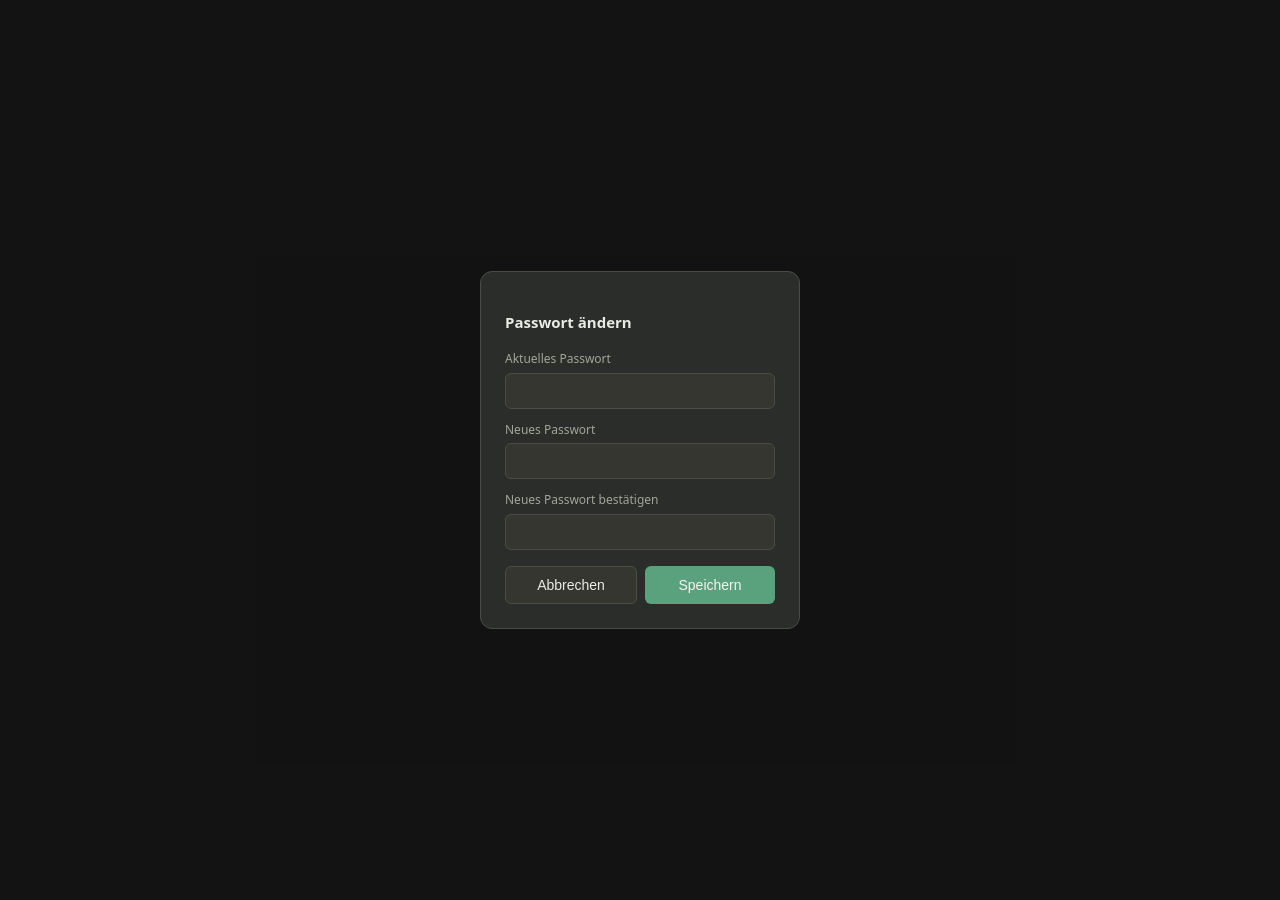
Scenario: ChangePasswordForm › surfaces a backend rejection (e.g. wrong current password) as an error message
In the 1st password field: (640, 391) [505,373,775,409], type "falsch"
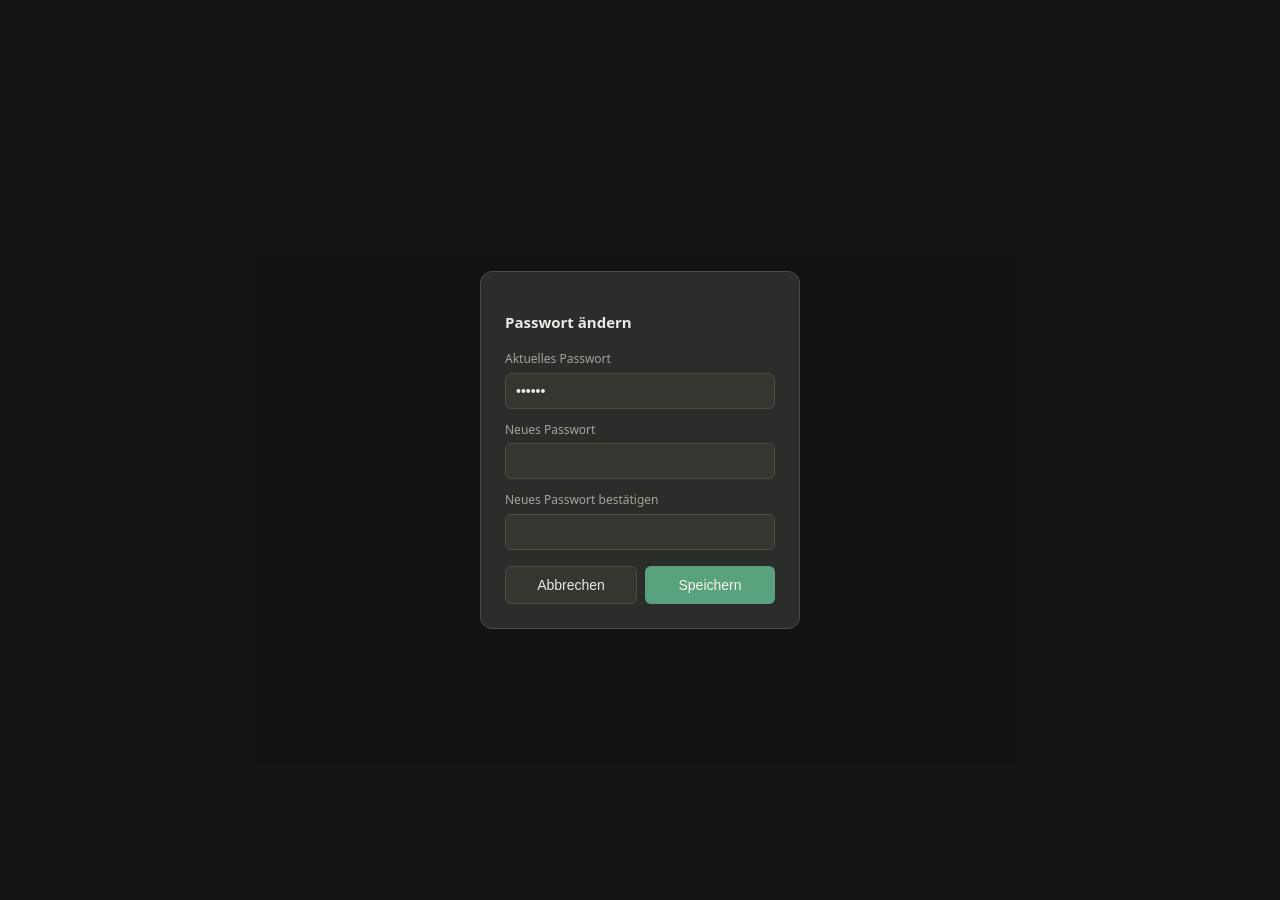
In the 2nd password field: (640, 461) [505,443,775,479], type "neuesPasswort1"
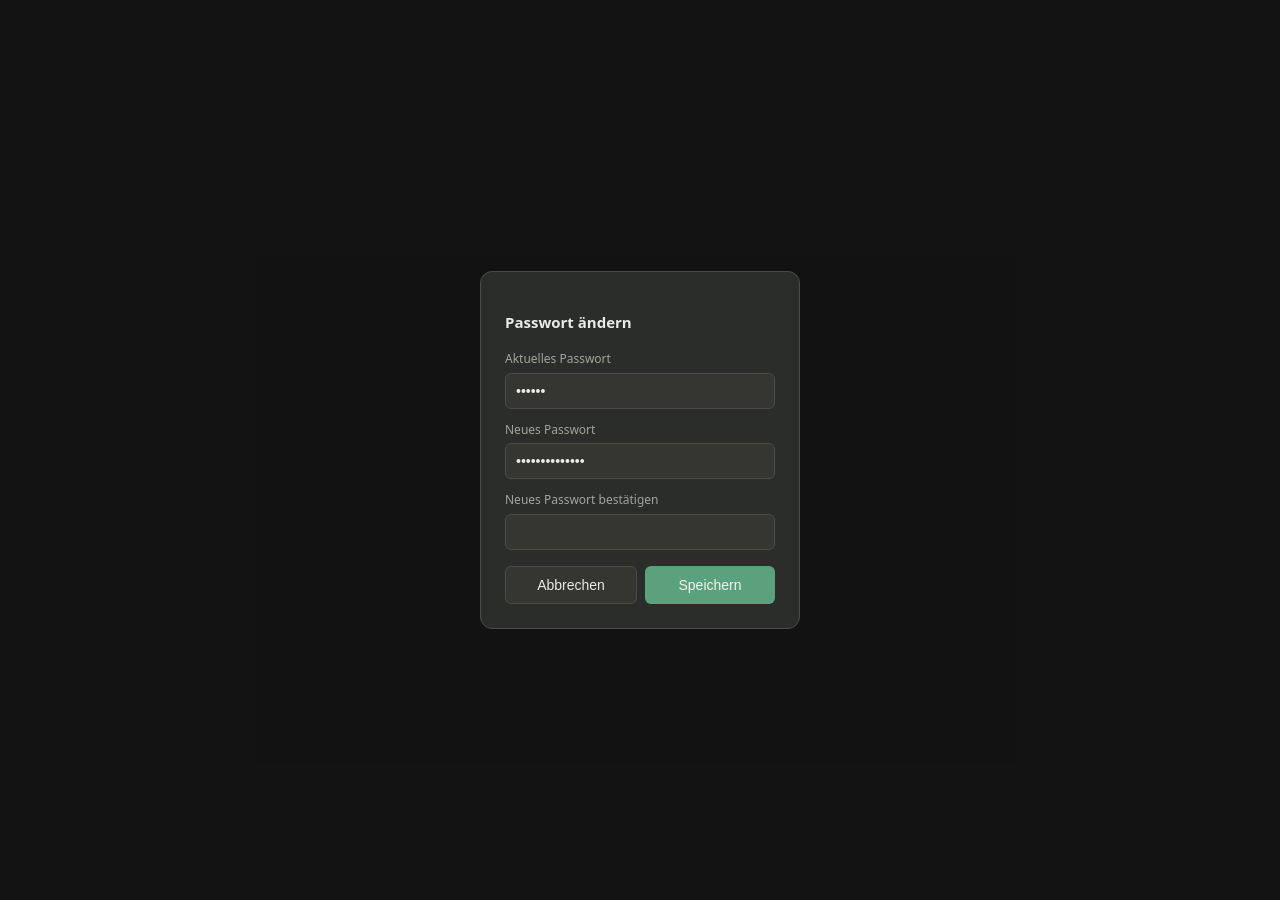
In the 3rd password field: (640, 532) [505,514,775,550], type "neuesPasswort1"
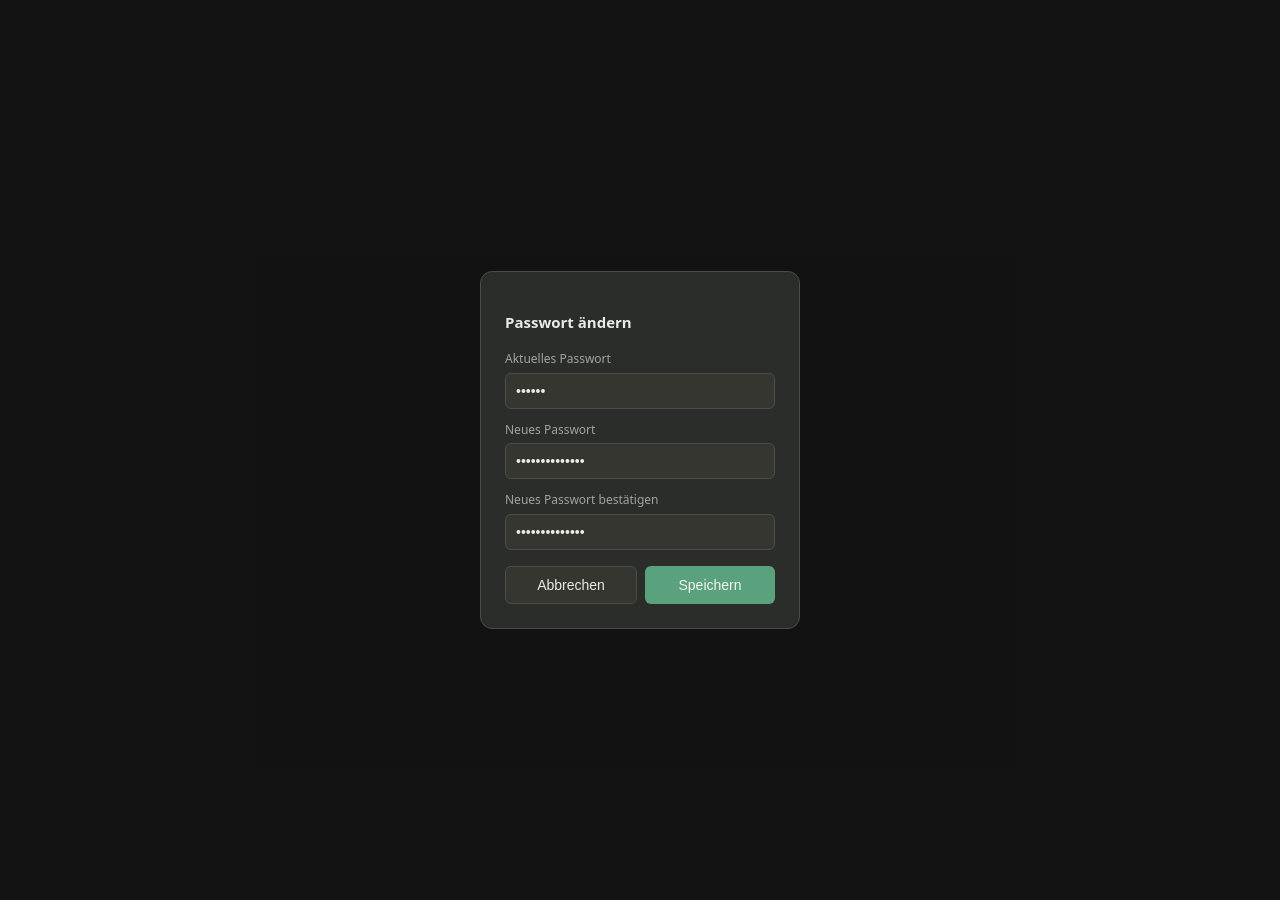
Click the button "Speichern": (710, 585) [645,566,775,604]
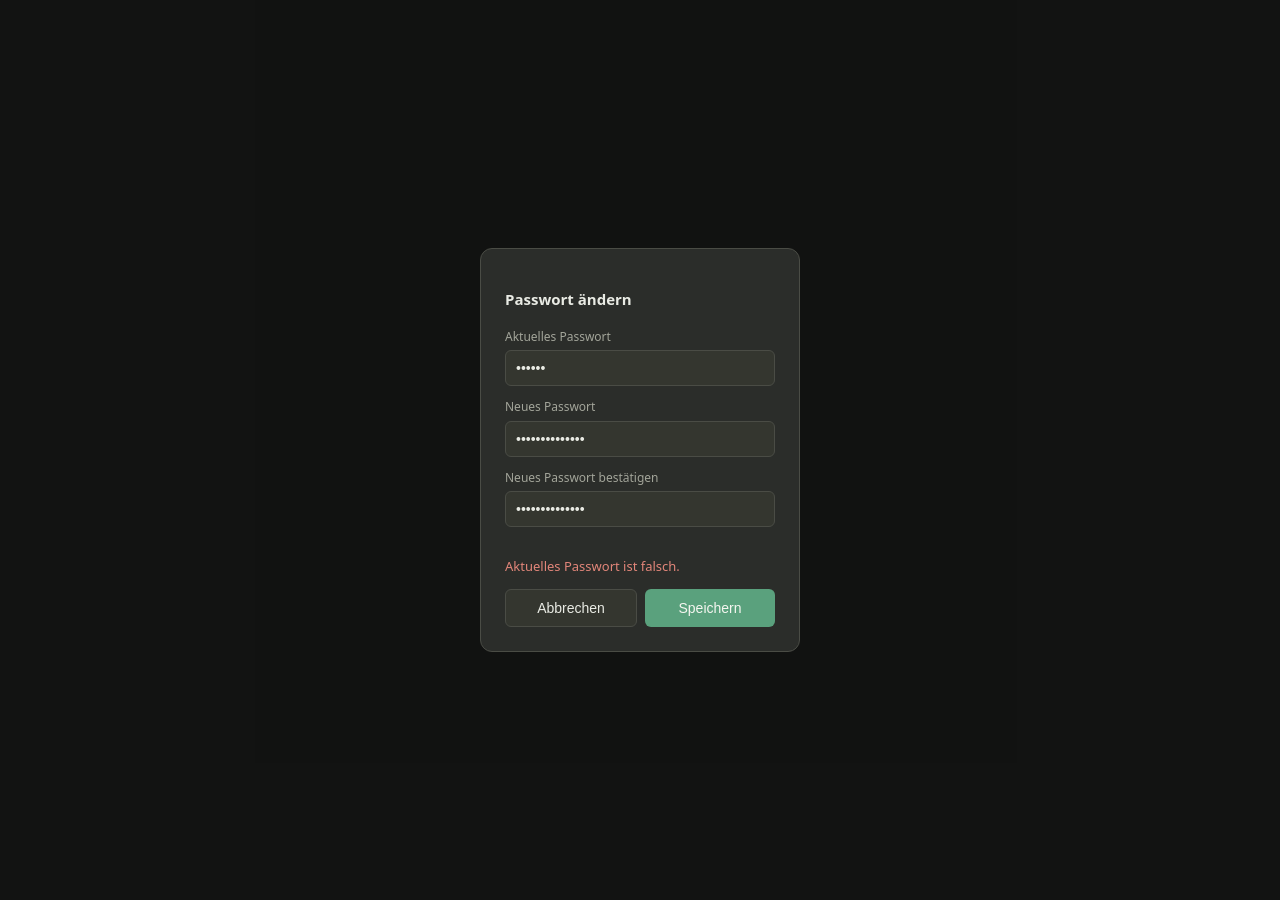
Check: the text "Aktuelles Passwort ist falsch." is shown, box [505,557,680,575]
